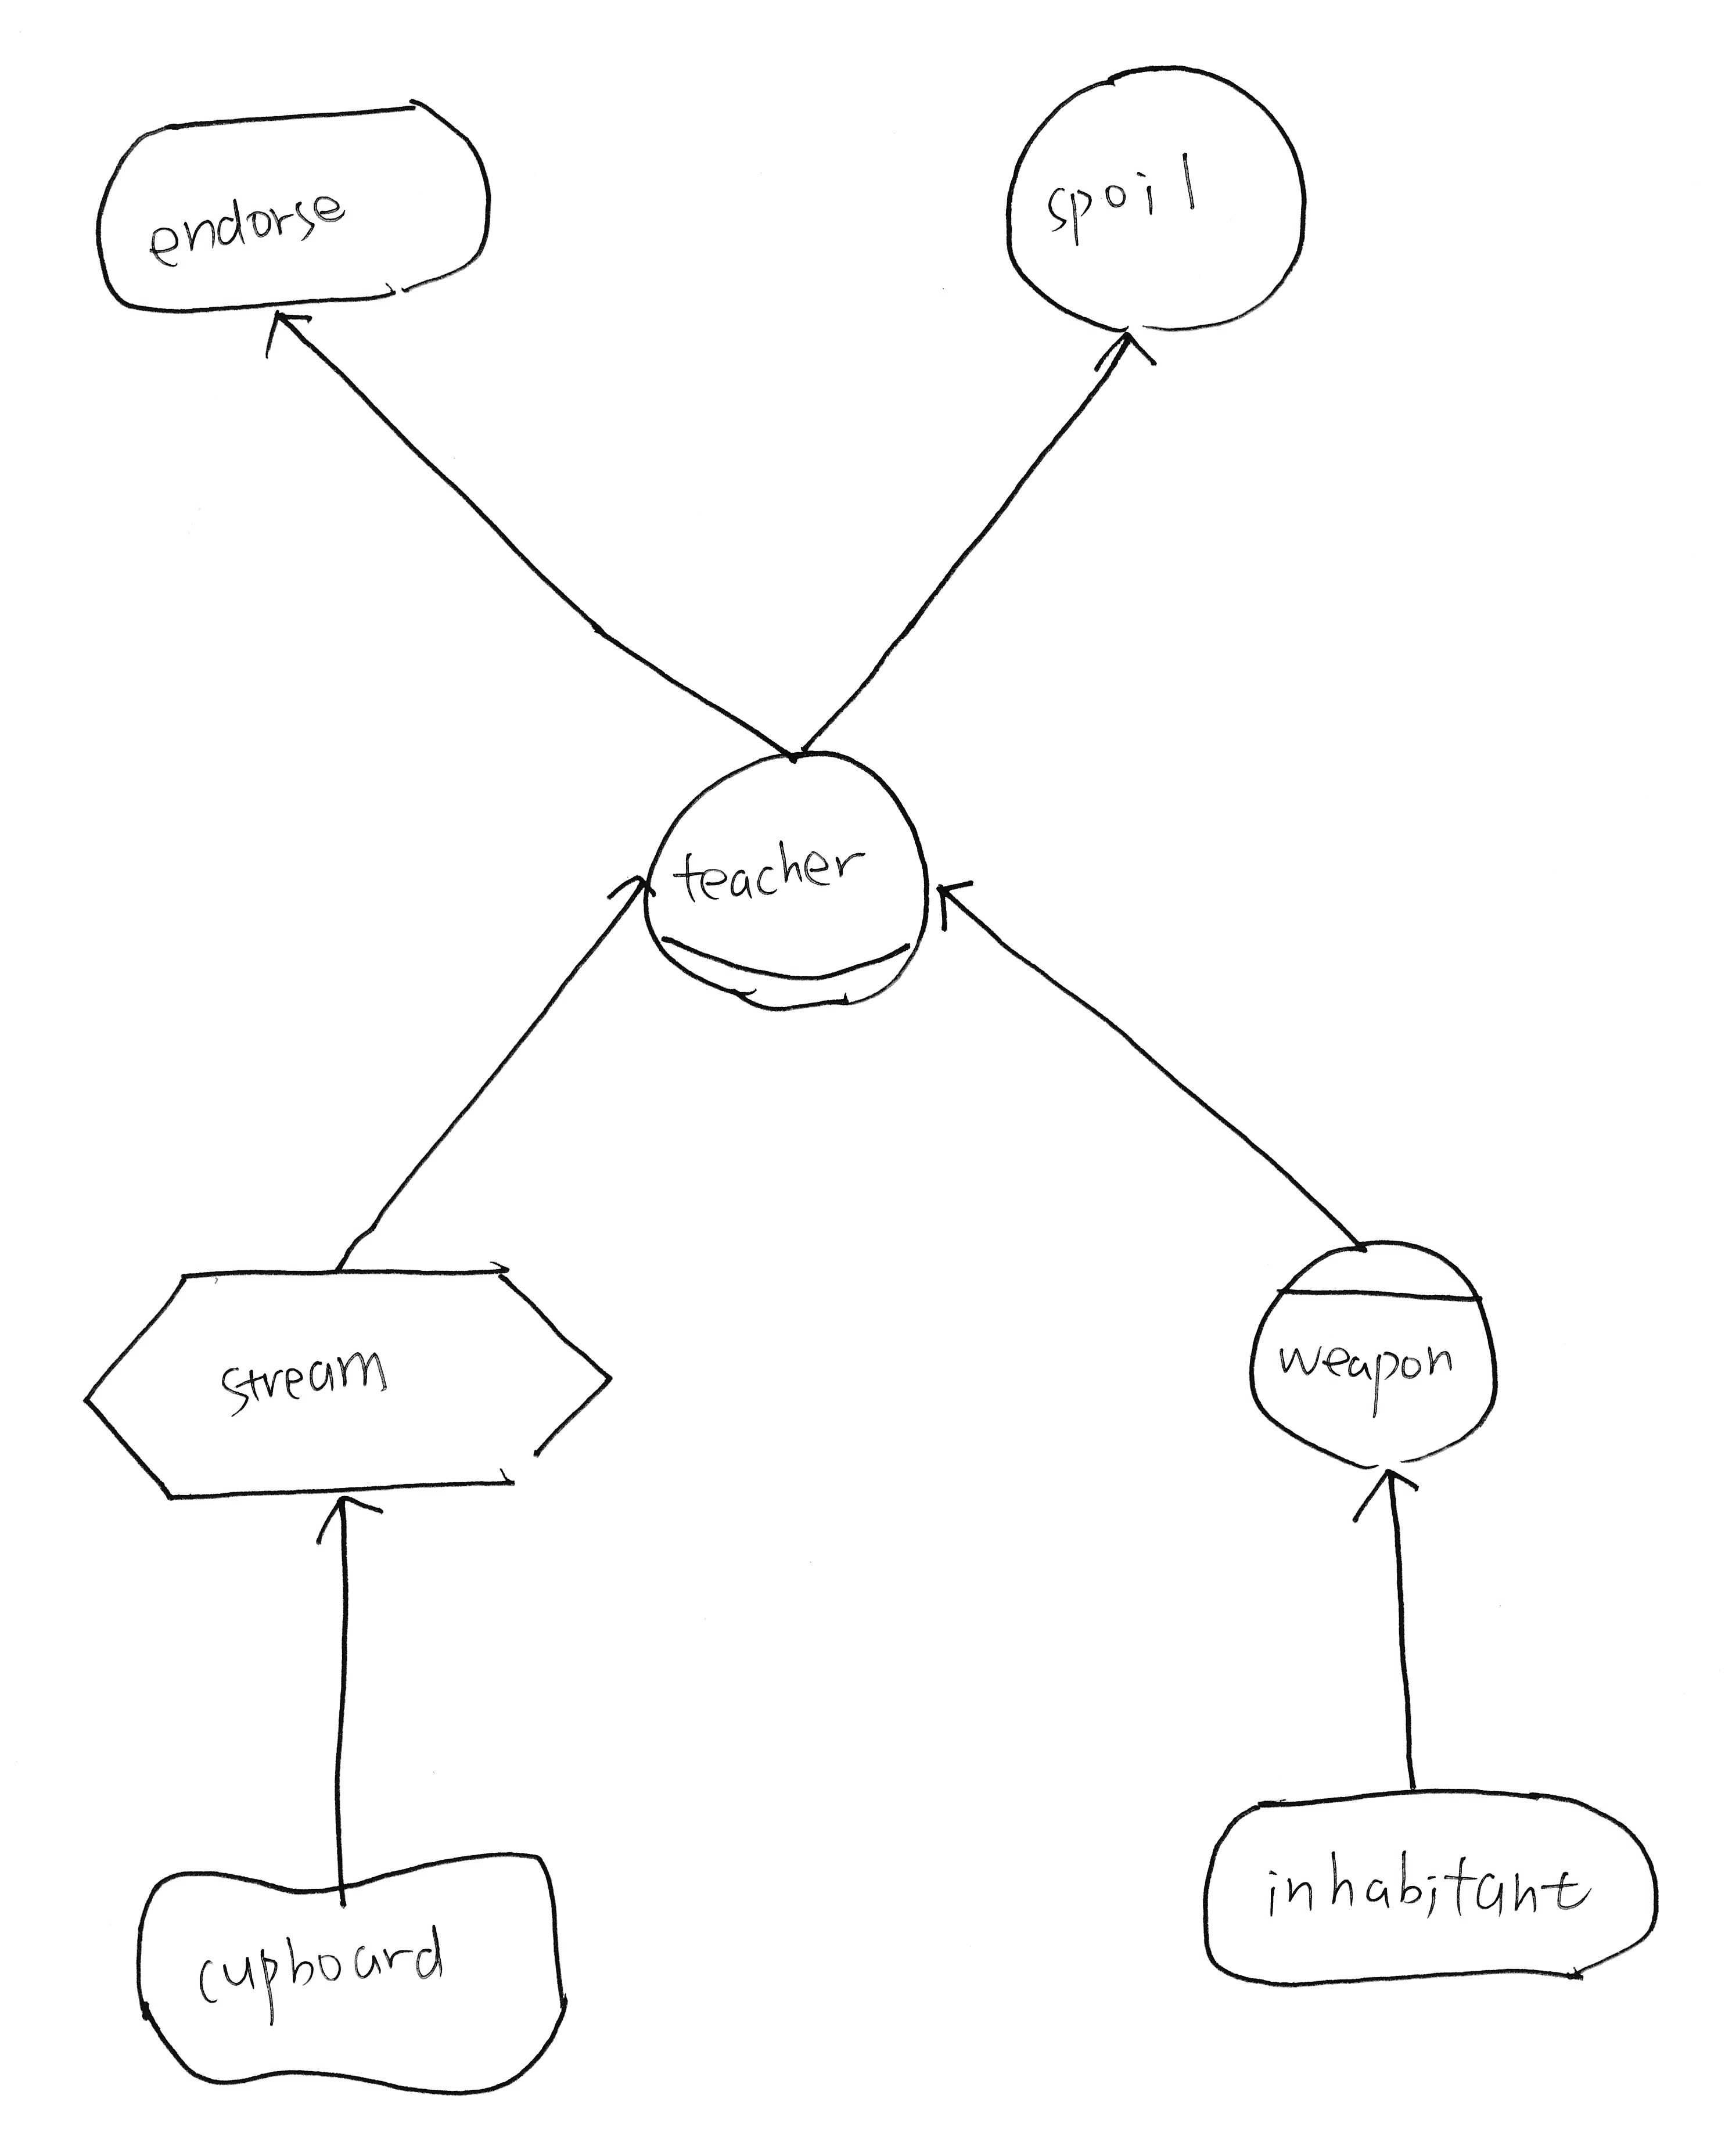actor: (982, 37, 1336, 364)
agent: (1229, 1227, 1526, 1501)
arrow: (1070, 310, 1185, 401), (1332, 1452, 1440, 1544), (241, 292, 336, 377), (294, 1475, 393, 1556), (915, 850, 995, 938), (597, 845, 671, 924)
goal: (1181, 1769, 1686, 2003), (67, 70, 512, 333)
quality: (113, 1837, 597, 2114)
role: (618, 727, 952, 1031)
task: (62, 1241, 639, 1531)
